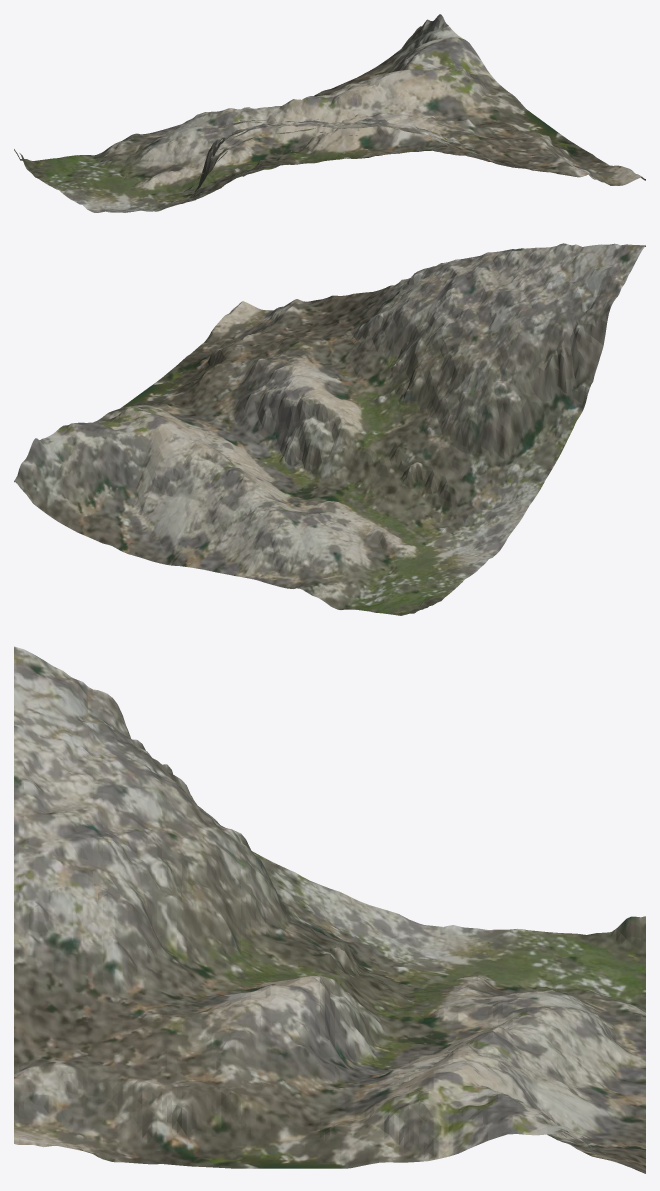
The picture shows the model from 3 angles, top to bottom: view 1: azimuth 30°, elevation 25°; view 2: azimuth 150°, elevation 25°; view 3: azimuth 270°, elevation 25°; orthographic projection. The views are drawn at different scales.
Size of the model in its own units: 250 by 130 by 241.
1 material, 1 textured.
